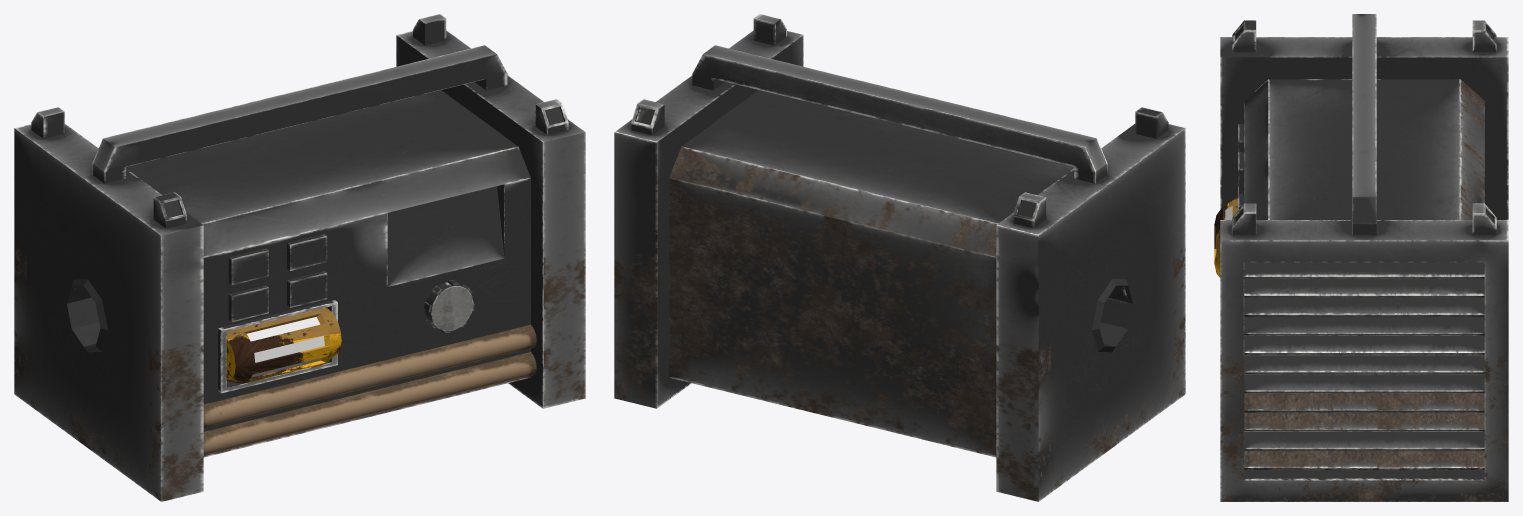
The model's file is Generator.fbx.
3 renders of one model, left to right at view 1: azimuth 30°, elevation 25°; view 2: azimuth 150°, elevation 25°; view 3: azimuth 270°, elevation 25°, orthographic.
Parts seen in each view (by area): view 1: Generator, PowerObject; view 2: Generator; view 3: Generator, PowerObject.
Part boxes in pixels (left/top/right/bottom): Generator: left=14, top=14, right=585, bottom=501; PowerObject: left=226, top=308, right=341, bottom=383; Generator: left=614, top=14, right=1185, bottom=501; Generator: left=1220, top=14, right=1508, bottom=501; PowerObject: left=1214, top=198, right=1237, bottom=277.
Bounding box in the file's own units: 404 × 271 × 245.
